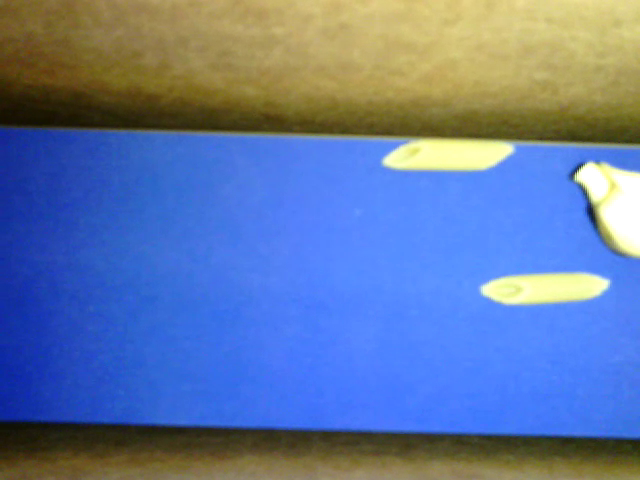penne: (477, 271, 610, 307), (379, 140, 515, 168)
shell: (595, 161, 639, 258)
